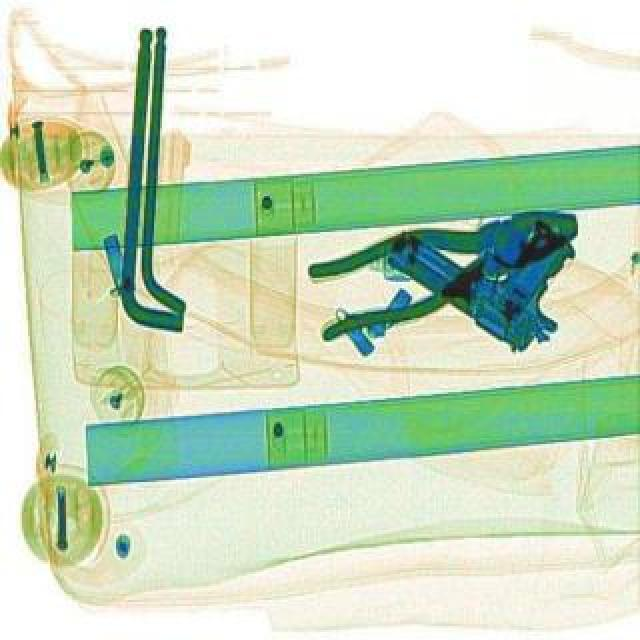gun: (376, 174, 604, 368)
wrench: (294, 188, 594, 352)
